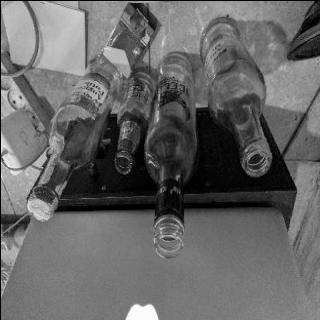objects: (102, 1, 155, 77)
